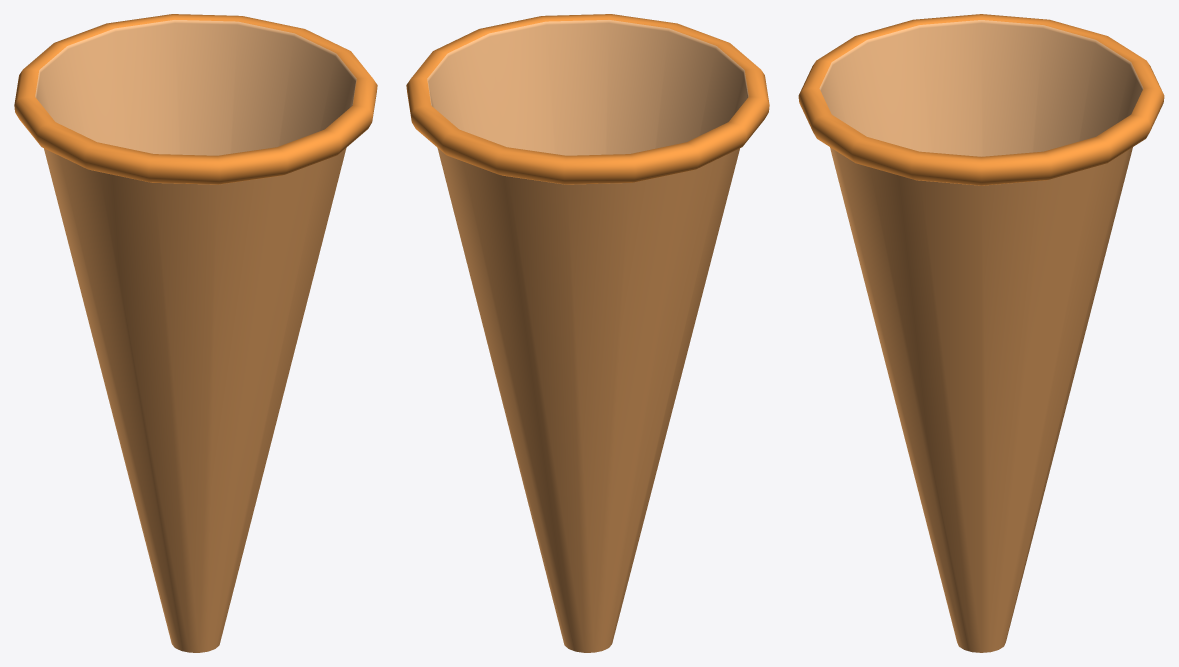
Rendered from Cone A Beige.fbx.
3 views of the same model, side by side, from view 1: azimuth 30°, elevation 25°; view 2: azimuth 150°, elevation 25°; view 3: azimuth 270°, elevation 25° (orthographic).
Parts seen in each view (by area): view 1: Cone A Beige; view 2: Cone A Beige; view 3: Cone A Beige.
Part boxes in pixels (bbox=[...]): Cone A Beige: bbox=[14, 14, 377, 652]; Cone A Beige: bbox=[406, 14, 769, 652]; Cone A Beige: bbox=[798, 14, 1164, 652].
Size of the model in its own units: 0.4323 by 0.7225 by 0.4323.
